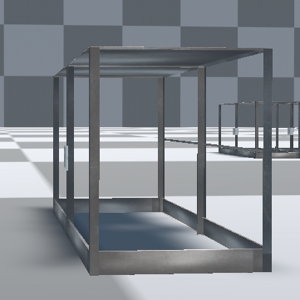Rack: (51, 44, 273, 276)
